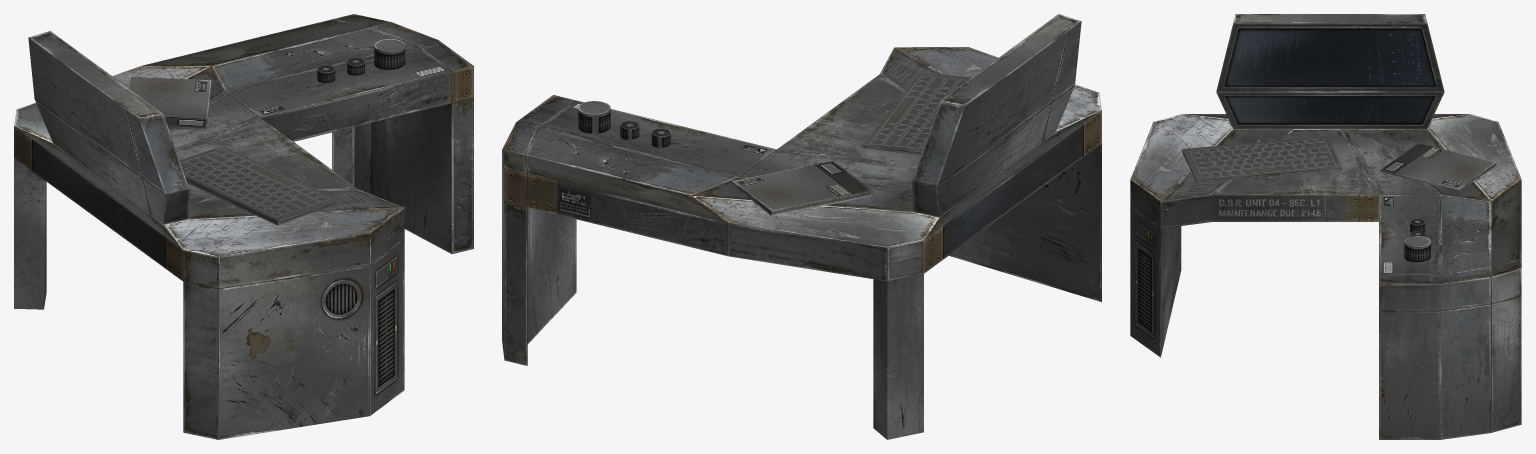
File: deskl.glb
3 renders of one model, left to right at view 1: azimuth 30°, elevation 25°; view 2: azimuth 150°, elevation 25°; view 3: azimuth 270°, elevation 25°, orthographic. The views are drawn at different scales.
Visible parts, largest first — view 1: DeskL; view 2: DeskL; view 3: DeskL.
Boxes of the visible parts, x1=… form: DeskL: x1=14, y1=14, x2=473, y2=439; DeskL: x1=502, y1=14, x2=1101, y2=439; DeskL: x1=1130, y1=14, x2=1521, y2=439.
Size of the model in its own units: 2.4 by 1.61 by 2.27.
Materials: 1 (1 with a texture image).
